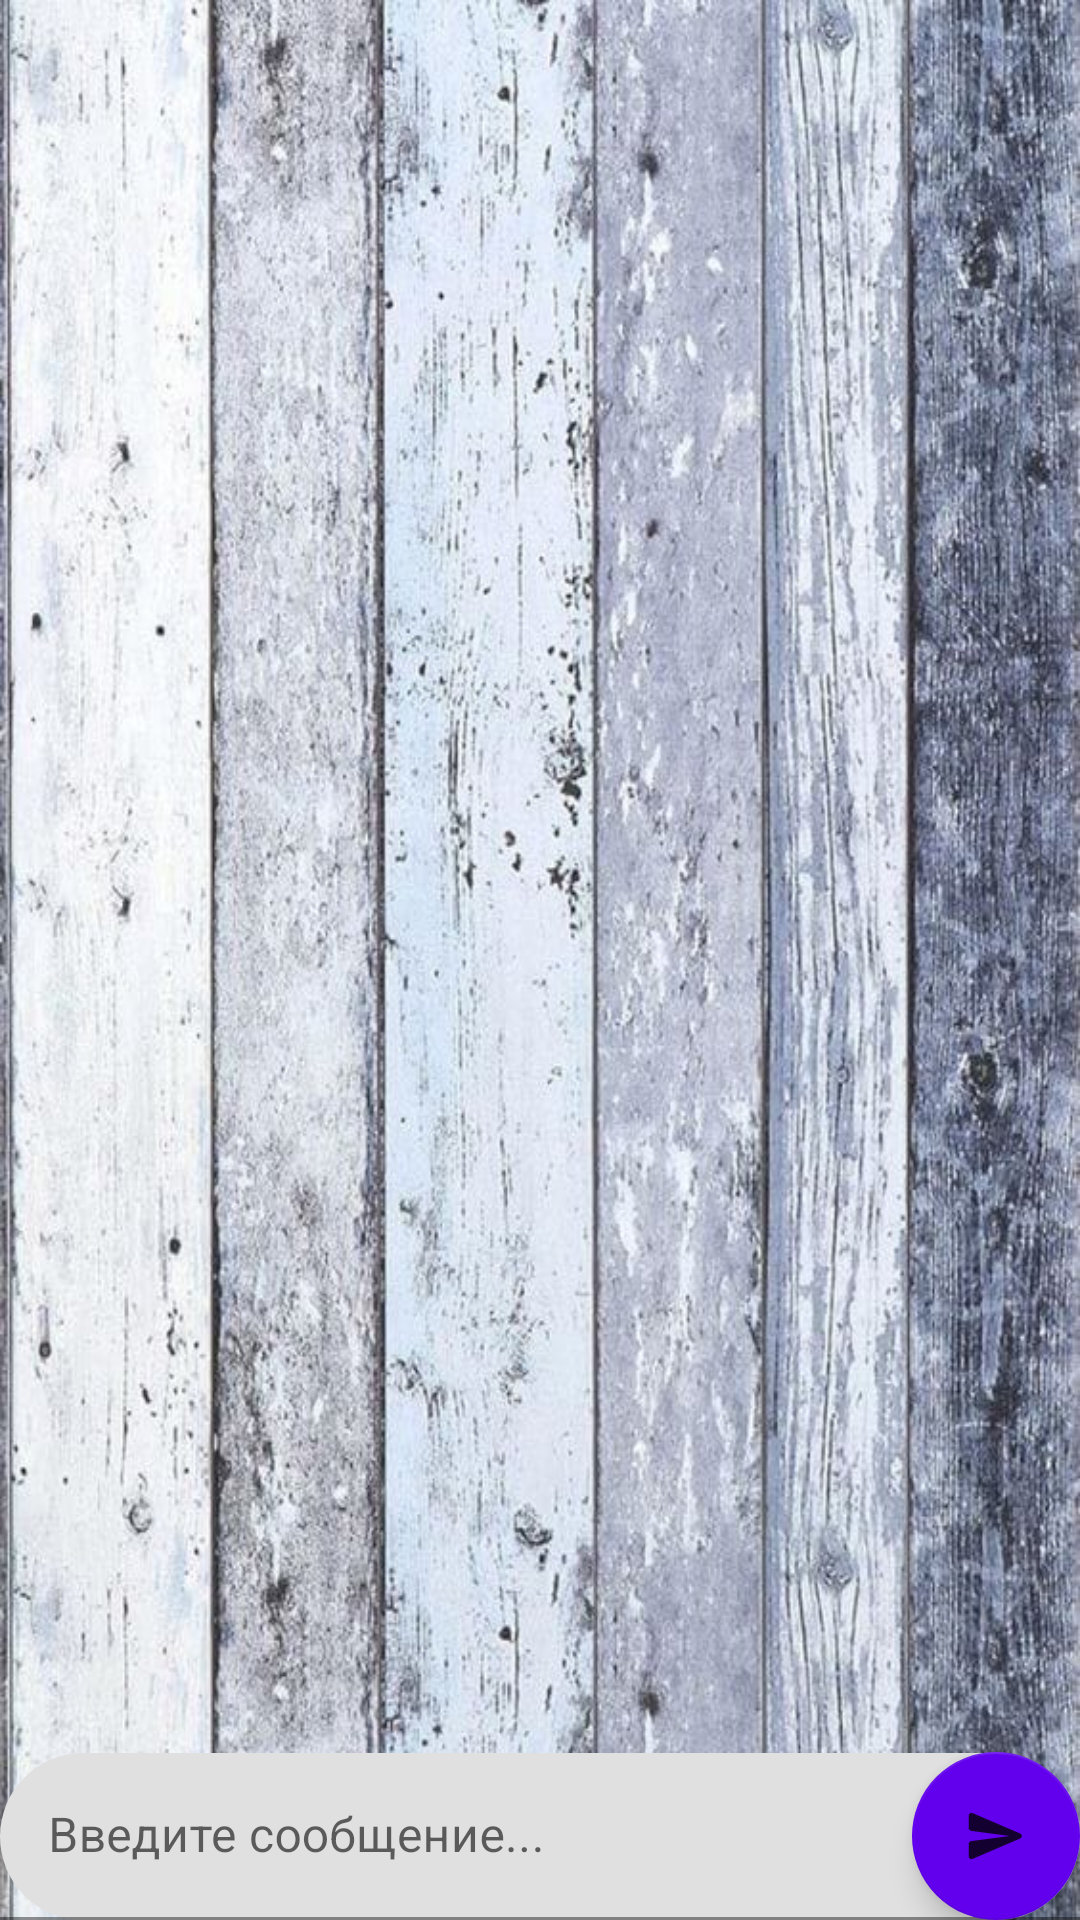

Point at icon controls on the screen. Image size 1080px x 1920px, points as (x=x, y=y).
send message: (x=996, y=1836)
